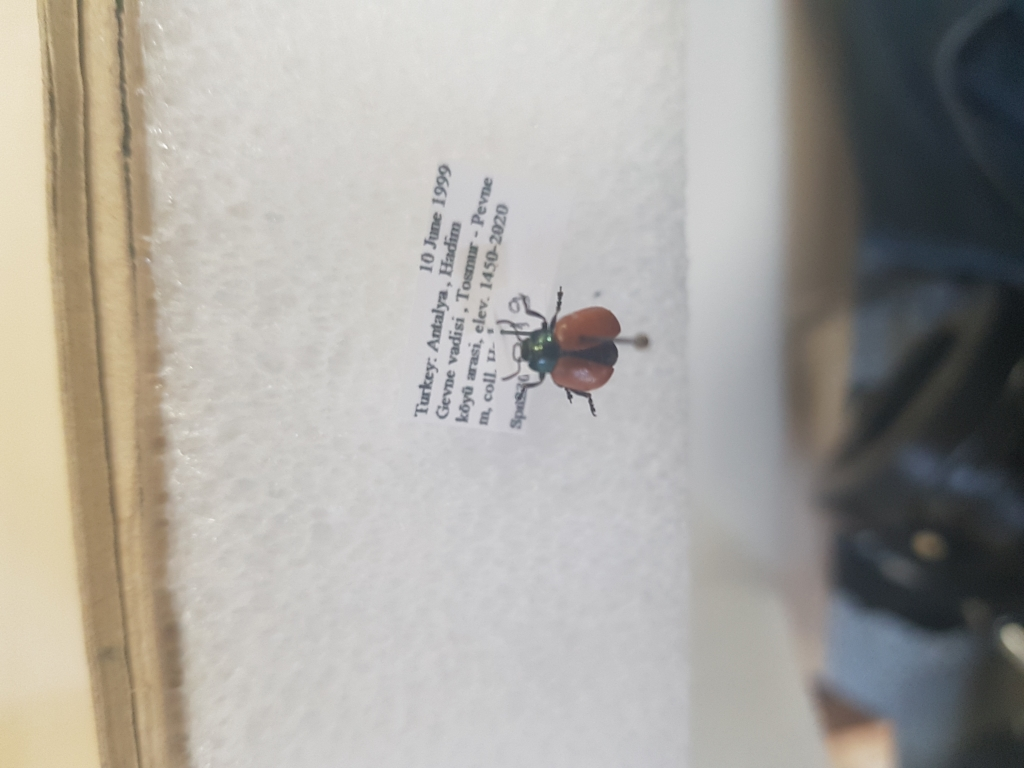Chrysomela_populi: (497, 286, 626, 420)
